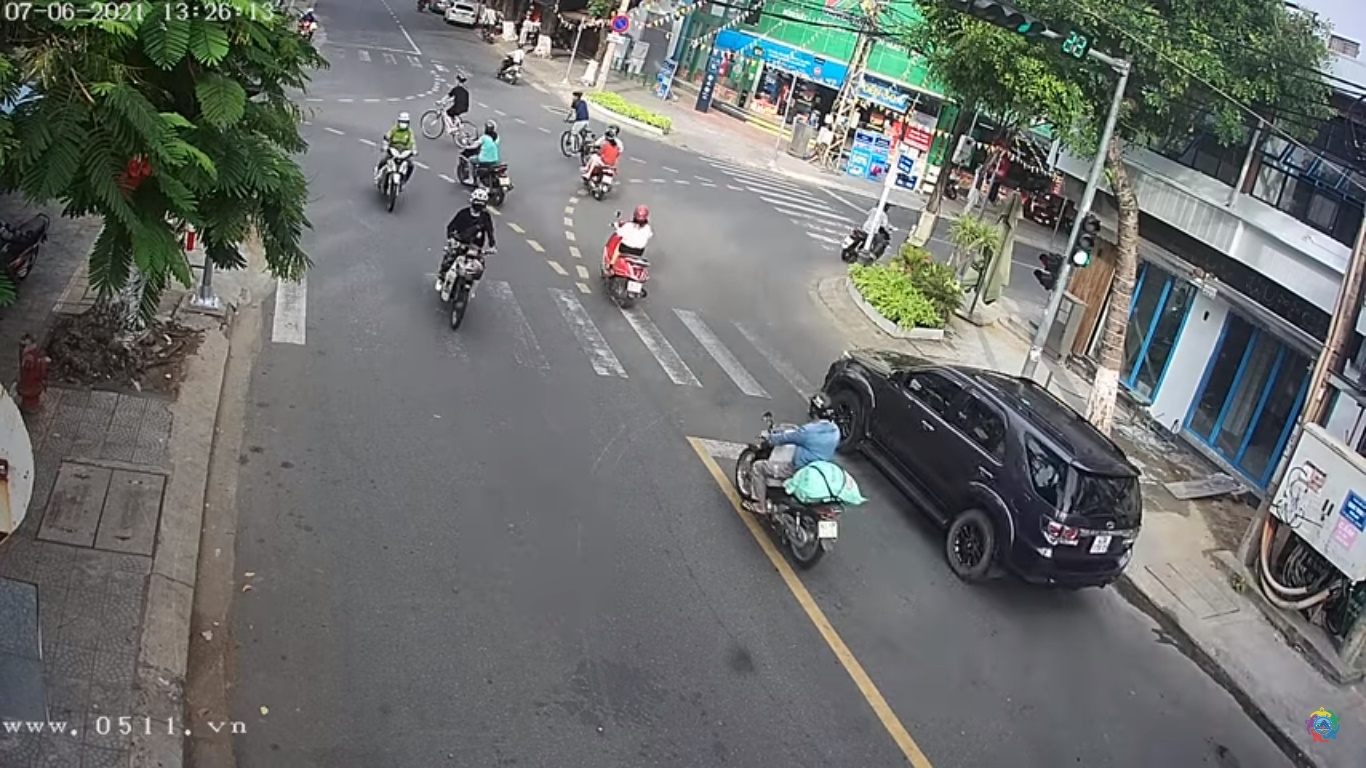motorbike: (437, 192, 503, 328), (381, 116, 416, 211)
